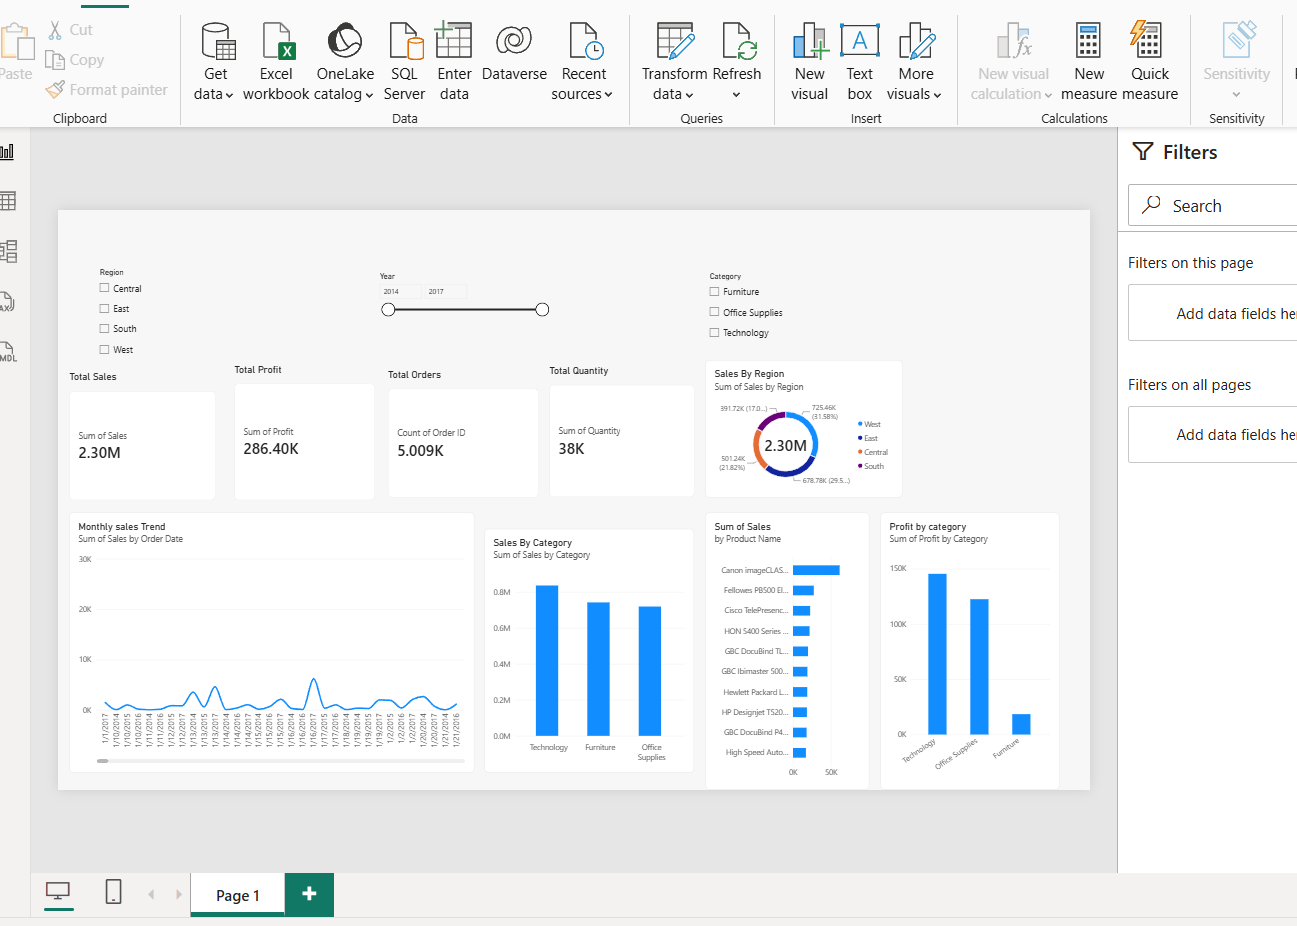

The dashboard page shown, as its layout file describes it:
{"tool":"powerbi","page":{"name":"Page 1","canvas":[1920,1080],"ordinal":0},"visuals":[{"type":"cardVisual","title":"Total Sales","fields":{"Data":["Sum(Sample - Superstore.Sales)"]},"box":[20.9,300,272,240],"z":0},{"type":"cardVisual","title":"Total Profit","fields":{"Data":["Sum(Sample - Superstore.Profit)"]},"box":[327.9,286,262,254],"z":1},{"type":"cardVisual","title":"Total Orders","fields":{"Data":["Count(Sample - Superstore.Order ID)"]},"box":[614,295.3,280,240],"z":2},{"type":"cardVisual","title":"Total Quantity","fields":{"Data":["Sum(Sample - Superstore.Quantity)"]},"box":[914,288.4,270,246],"z":3},{"type":"lineChart","title":"Monthly sales Trend","fields":{"Category":["Sample - Superstore.Order Date"],"Y":["Sum(Sample - Superstore.Sales)"]},"box":[20.9,562.8,753.5,483.7],"z":4},{"type":"clusteredColumnChart","title":"Sales By Category","fields":{"Category":["Sample - Superstore.Category"],"Y":["Sum(Sample - Superstore.Sales)"]},"box":[793,593,390.7,453.5],"z":7},{"type":"donutChart","title":"Sales By Region","fields":{"Category":["Sample - Superstore.Region"],"Y":["Sum(Sample - Superstore.Sales)"]},"box":[1204.7,279.1,366,256],"z":8},{"type":"clusteredBarChart","fields":{"Category":["Sample - Superstore.Product Name"],"Y":["Sum(Sample - Superstore.Sales)"]},"box":[1204.7,562.8,304.7,516.3],"z":10},{"type":"clusteredColumnChart","title":"Profit by category","fields":{"Category":["Sample - Superstore.Category"],"Y":["Sum(Sample - Superstore.Profit)"]},"box":[1530.2,562.8,332.6,516.3],"z":11},{"type":"slicer","fields":{"Values":["Sample - Superstore.Year"]},"box":[590.7,114,369.8,158.1],"z":12},{"type":"slicer","fields":{"Values":["Sample - Superstore.Region"]},"box":[69.8,107,325.6,172.1],"z":13},{"type":"slicer","fields":{"Values":["Sample - Superstore.Category"]},"box":[1204.7,114,325.6,146.5],"z":14},{"type":"cardVisual","fields":{"Data":["Sum(Sample - Superstore.Sales)"]},"box":[396,107,194,172],"z":15},{"type":"textbox","box":[655.8,41.9,1041.9,37.2],"z":16}]}

Visuals, with their boxes on the page's 1920x1080 design canvas (x1, y1, x2, y2). These are canvas units, not pixel positions in the 1297x926 screenshot, which may show the page scaled, cropped or inside an application window:
"Total Sales" cardVisual: BBox(21, 300, 293, 540)
"Total Profit" cardVisual: BBox(328, 286, 590, 540)
"Total Orders" cardVisual: BBox(614, 295, 894, 535)
"Total Quantity" cardVisual: BBox(914, 288, 1184, 534)
"Monthly sales Trend" lineChart: BBox(21, 563, 774, 1046)
"Sales By Category" clusteredColumnChart: BBox(793, 593, 1184, 1046)
"Sales By Region" donutChart: BBox(1205, 279, 1571, 535)
clusteredBarChart - Sample - Superstore.Product Name x Sum(Sample - Superstore.Sales): BBox(1205, 563, 1509, 1079)
"Profit by category" clusteredColumnChart: BBox(1530, 563, 1863, 1079)
slicer - Sample - Superstore.Year: BBox(591, 114, 960, 272)
slicer - Sample - Superstore.Region: BBox(70, 107, 395, 279)
slicer - Sample - Superstore.Category: BBox(1205, 114, 1530, 260)
cardVisual - Sum(Sample - Superstore.Sales): BBox(396, 107, 590, 279)
textbox: BBox(656, 42, 1698, 79)
